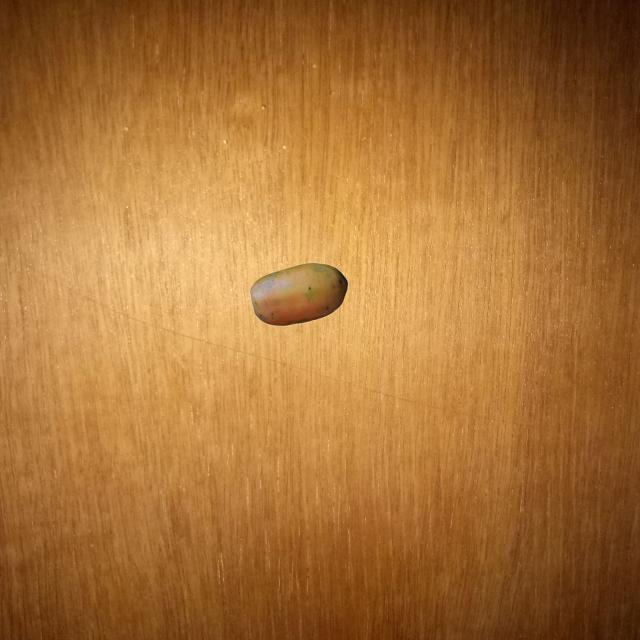Pepaya rippen: (244, 266, 360, 324)
